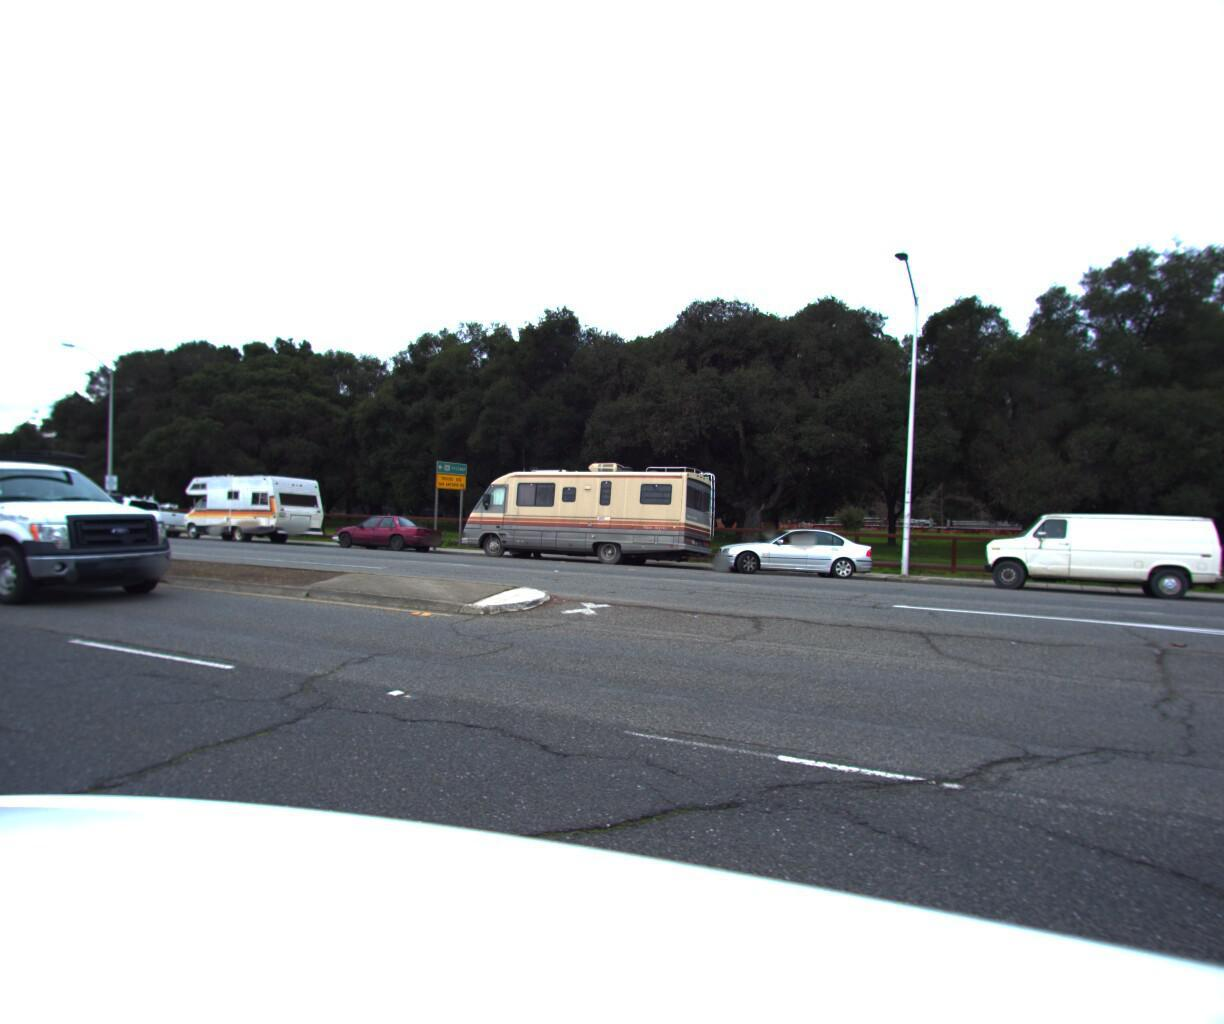car: (0, 439, 199, 614), (705, 518, 879, 578), (74, 491, 193, 537), (321, 519, 429, 559)
other_vehicle: (167, 465, 330, 546)
truck: (444, 451, 726, 573), (945, 500, 1224, 608)
